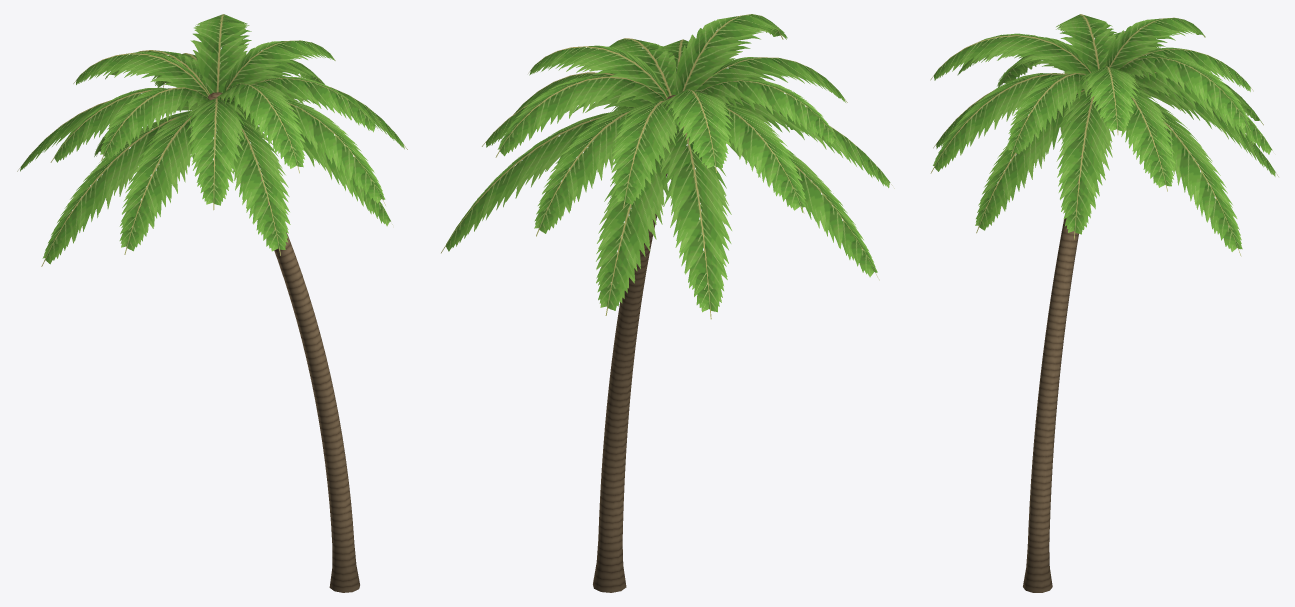
The model's file is coconut_b.glb.
3 views of the same model, side by side, from view 1: azimuth 30°, elevation 25°; view 2: azimuth 150°, elevation 25°; view 3: azimuth 270°, elevation 25° (orthographic). The views are drawn at different scales.
Parts seen in each view (by area): view 1: leaves, wood; view 2: leaves, wood; view 3: leaves, wood.
Part boxes in pixels (x1,y1,x2,y2): leaves: (17,14,407,266); wood: (208,92,359,592); leaves: (441,14,894,319); wood: (593,95,675,592); leaves: (930,14,1278,256); wood: (1023,116,1090,592).
Size of the model in its own units: 7.15 by 10.06 by 6.4.
Materials: 2 (2 with a texture image).
